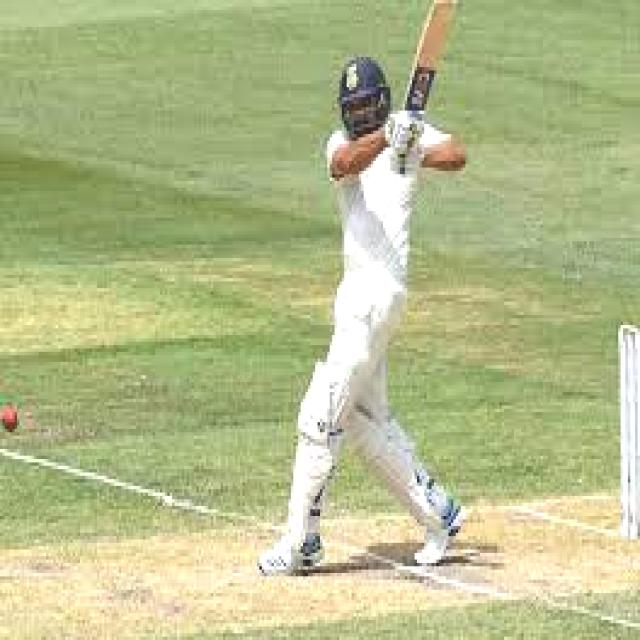toe: (432, 0, 456, 20)
